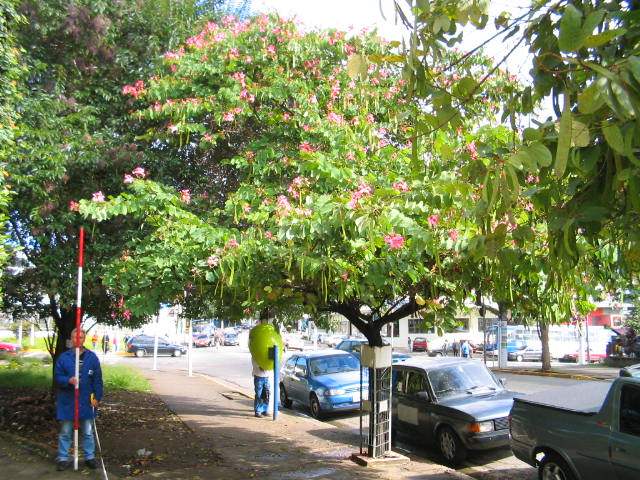crown: (83, 12, 622, 331)
stem: (358, 331, 399, 457)
stick: (68, 226, 90, 469)
tree: (80, 11, 625, 458)
